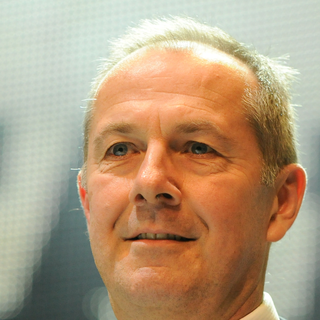eye: (98, 139, 144, 163), (176, 139, 219, 161)
